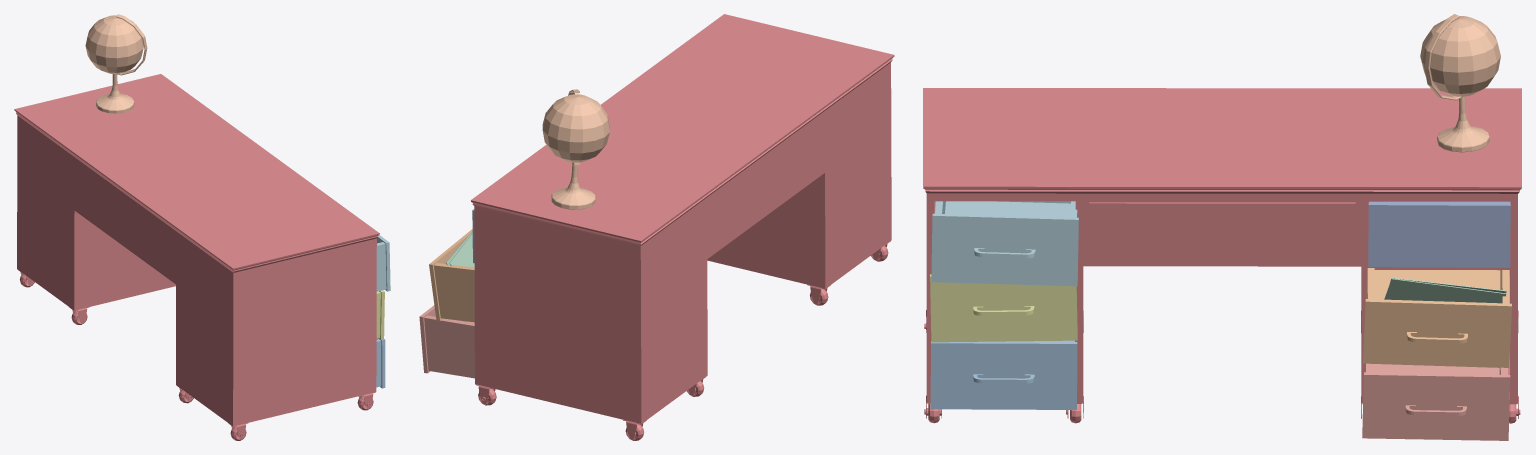
Rendered from 97253_assembly.glb.
3 views of the same model, side by side, from view 1: azimuth 30°, elevation 25°; view 2: azimuth 150°, elevation 25°; view 3: azimuth 270°, elevation 25° (orthographic). The views are drawn at different scales.
Parts seen in each view (by area): view 1: part_00, part_03, part_07, part_08, part_05; view 2: part_00, part_03, part_01, part_02, part_06; view 3: part_00, part_07, part_02, part_01, part_08, part_09, part_05, part_03, part_06.
Part boxes in pixels (left/top/right/bottom): part_00: left=14, top=74, right=379, bottom=440; part_03: left=85, top=14, right=147, bottom=113; part_07: left=376, top=235, right=390, bottom=291; part_08: left=376, top=338, right=385, bottom=388; part_05: left=376, top=290, right=384, bottom=340; part_00: left=471, top=14, right=894, bottom=440; part_03: left=542, top=89, right=609, bottom=209; part_01: left=419, top=305, right=474, bottom=378; part_02: left=429, top=229, right=474, bottom=322; part_06: left=446, top=231, right=474, bottom=267; part_00: left=923, top=88, right=1521, bottom=423; part_07: left=931, top=201, right=1078, bottom=286; part_02: left=1363, top=268, right=1511, bottom=367; part_01: left=1362, top=363, right=1510, bottom=440; part_08: left=930, top=340, right=1077, bottom=409; part_09: left=1368, top=201, right=1510, bottom=267; part_05: left=930, top=274, right=1077, bottom=342; part_03: left=1420, top=14, right=1500, bottom=152; part_06: left=1384, top=277, right=1506, bottom=303.
Bounding box in the file's own units: 0.5342 × 0.6821 × 1.
